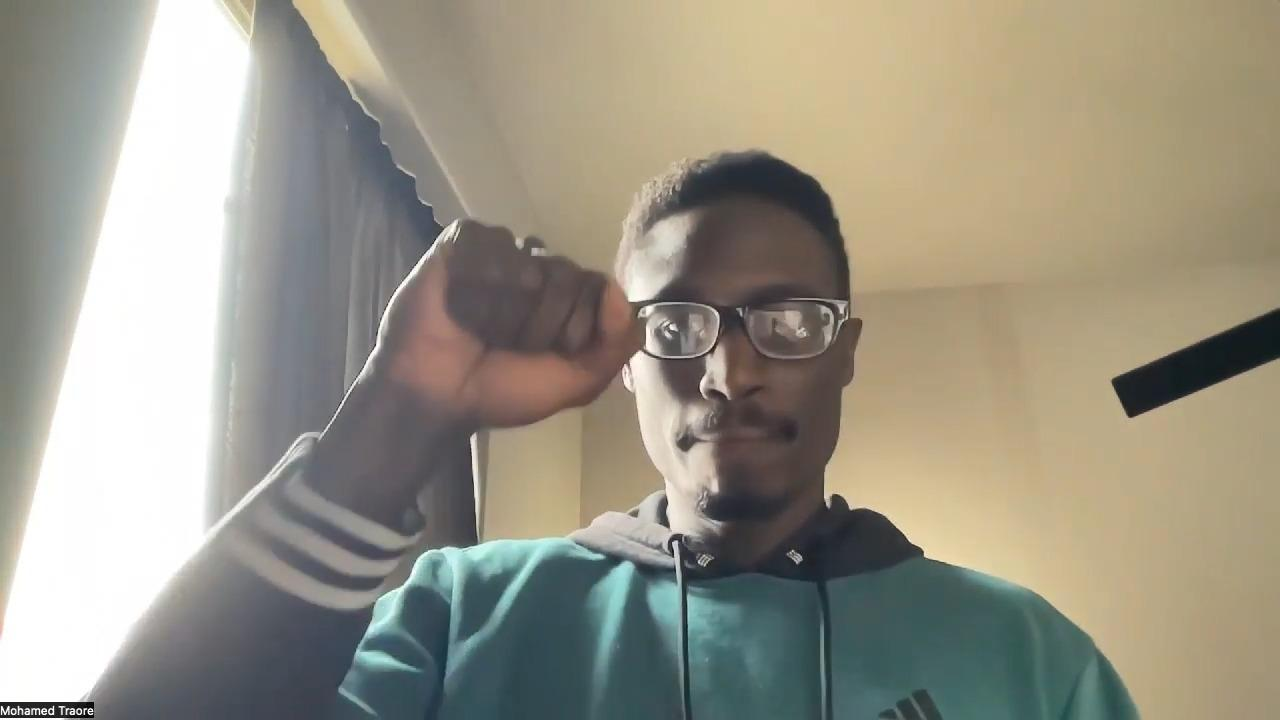Rock: (367, 215, 651, 434)
